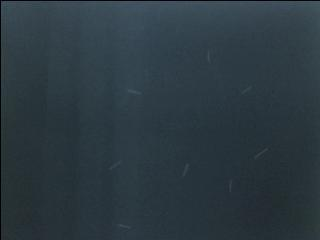scratch: (122, 84, 148, 99), (248, 145, 270, 161), (106, 156, 126, 173), (113, 219, 137, 233), (178, 161, 194, 182), (202, 46, 217, 67), (237, 83, 254, 97), (228, 175, 239, 192)
